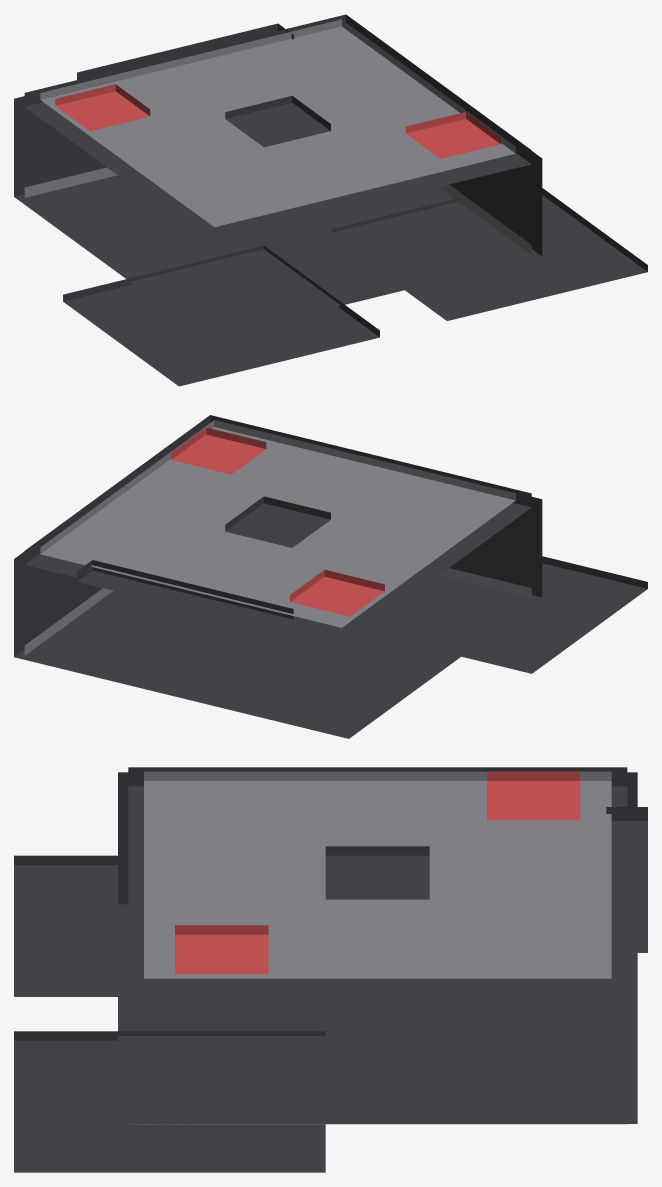
3 renders of one model, top to bottom at view 1: azimuth 30°, elevation 25°; view 2: azimuth 150°, elevation 25°; view 3: azimuth 270°, elevation 25°, orthographic. The views are drawn at different scales.
Parts seen in each view (by area): view 1: base; view 2: base; view 3: base.
Boxes of the visible parts, box(x1,y1,x2,y2) form: base: box(14, 14, 647, 386); base: box(14, 415, 647, 738); base: box(14, 767, 647, 1172).
Size of the model in its own units: 0.14 by 0.032 by 0.122.
